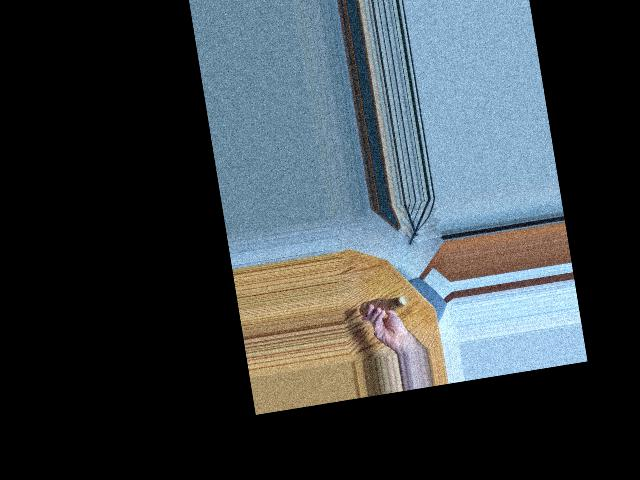sweet_potato: (357, 293, 409, 320)
